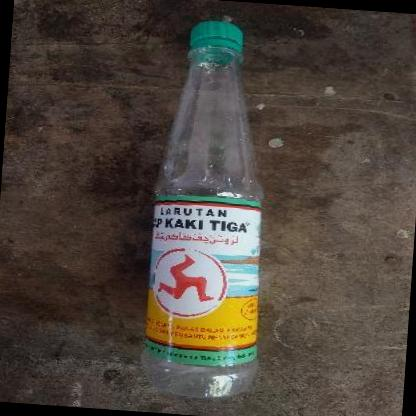plastic_bottles: (139, 14, 284, 406)
